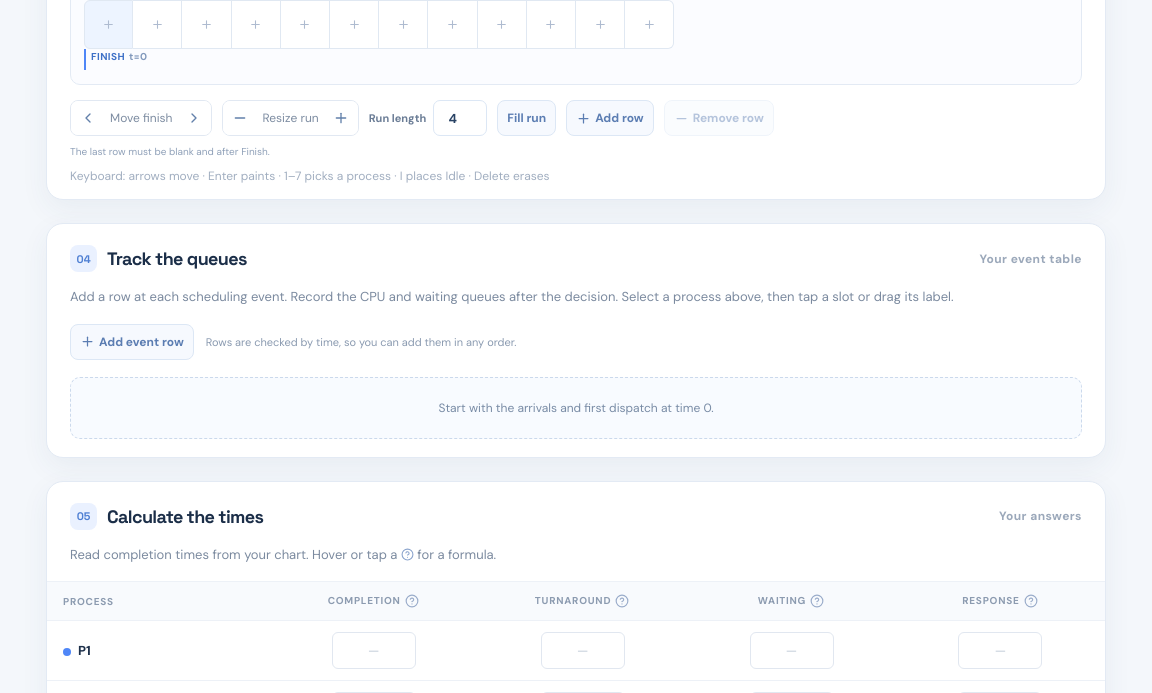
it: MLFQ exercise › reports missing event times and keeps the unfinished attempt when discard is canceled
The width and height of the screenshot is (1152, 693).
(page scrolled)
Click the button "Add event row" at (132, 342), box [70,324,194,360]
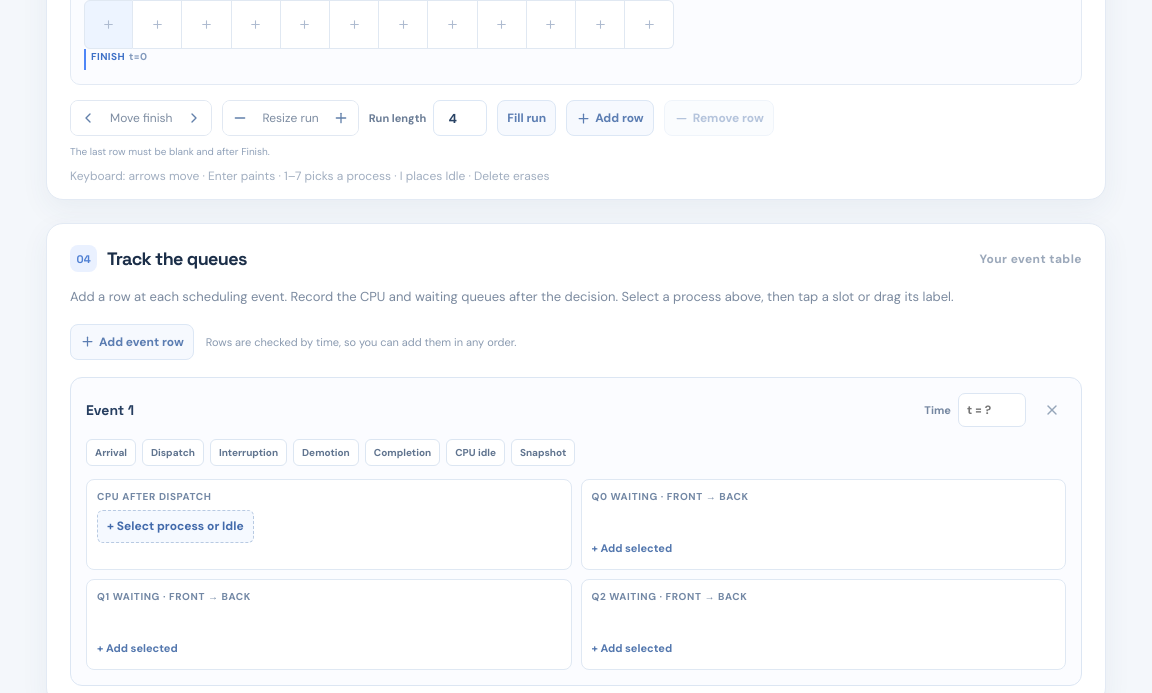
Type "0" into the field named "Event 1 time" at (992, 410), box [958,393,1026,427]
(page scrolled)
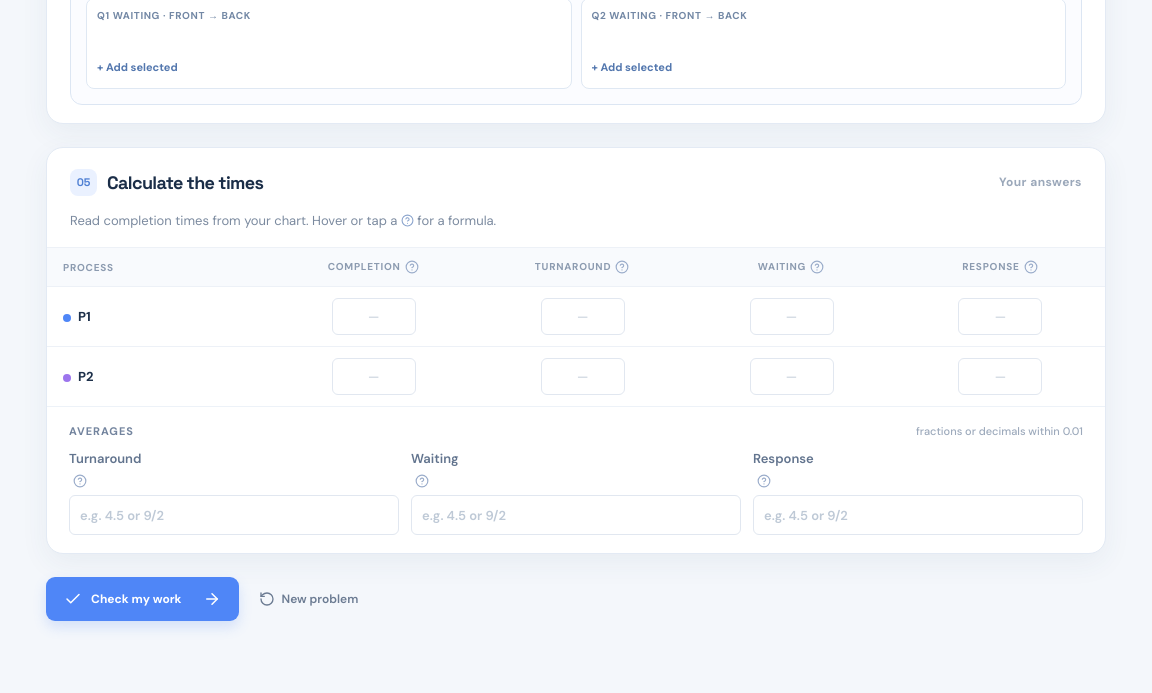
Click the button "Check my work" at (142, 599), box [46,577,239,621]
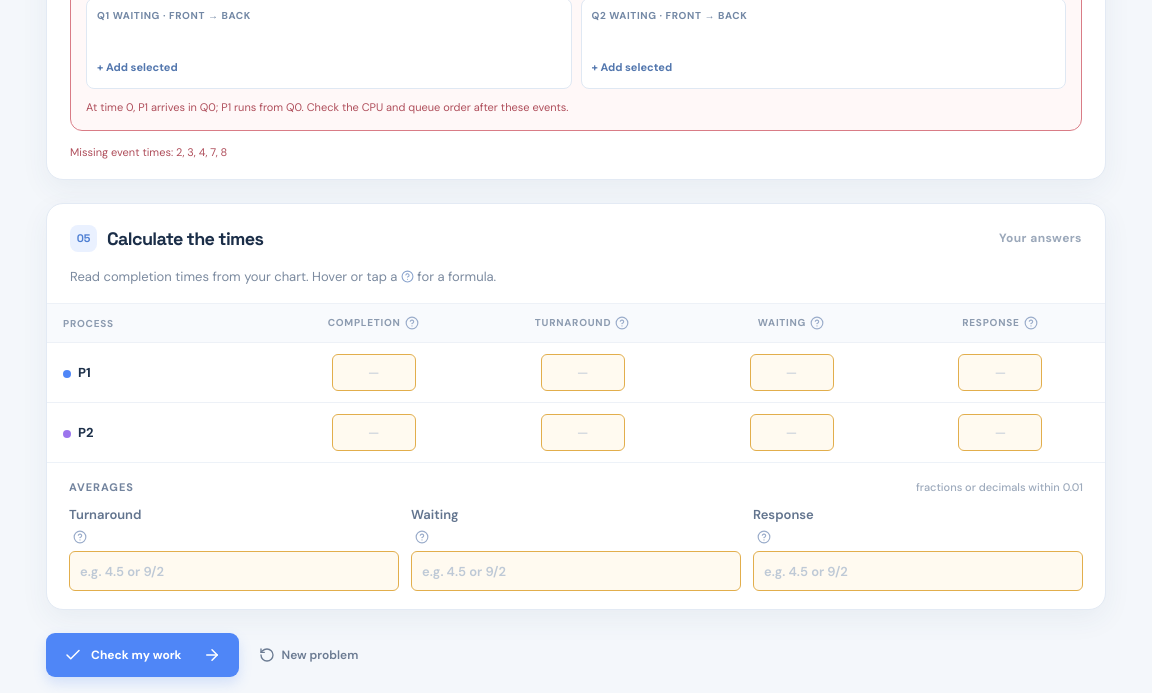
Now the text "Missing event times: 2, 3, 4, 7, 8" is shown, box [70,145,227,159]
Click the button "New problem" at (308, 655), box [253,646,364,664]
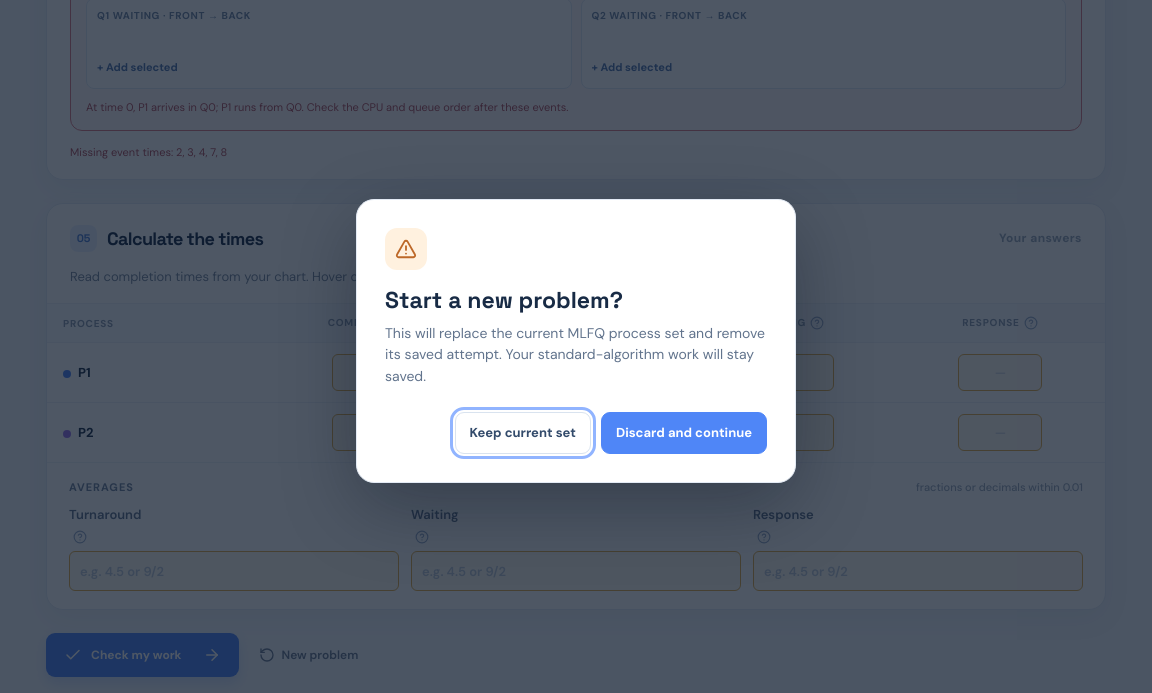
Now the dialog is shown, box [356,199,796,483]
Click the button "Keep current set" at (523, 433), box [454,412,591,454]
(page scrolled)
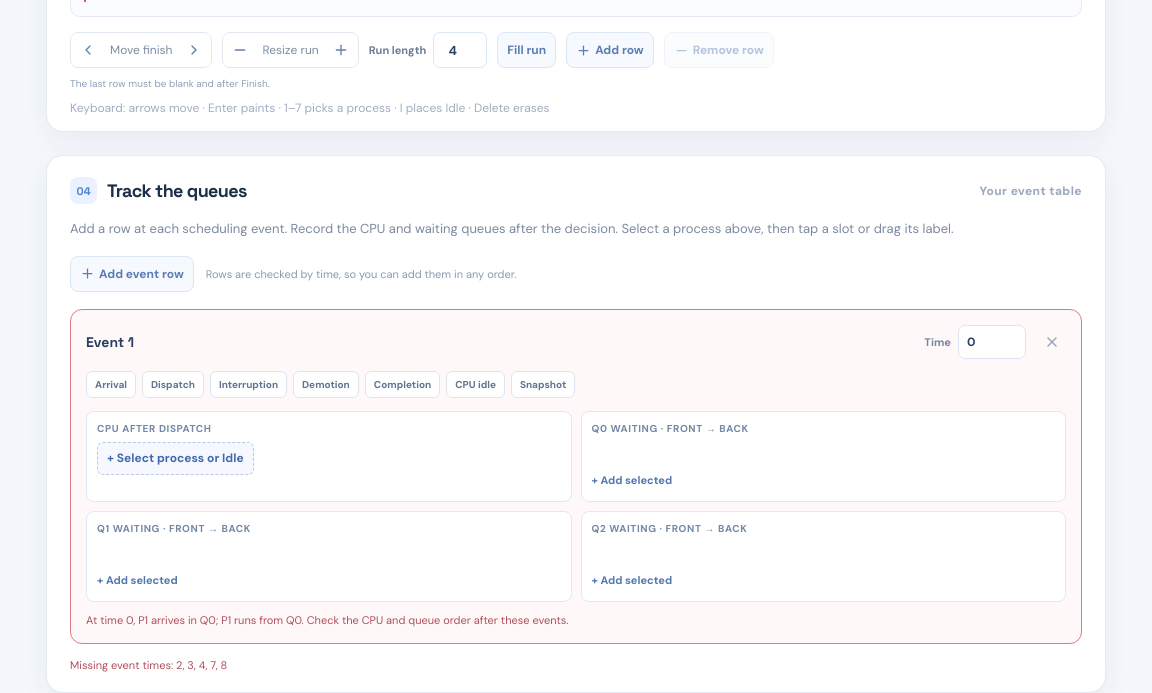
Now the dialog is gone
